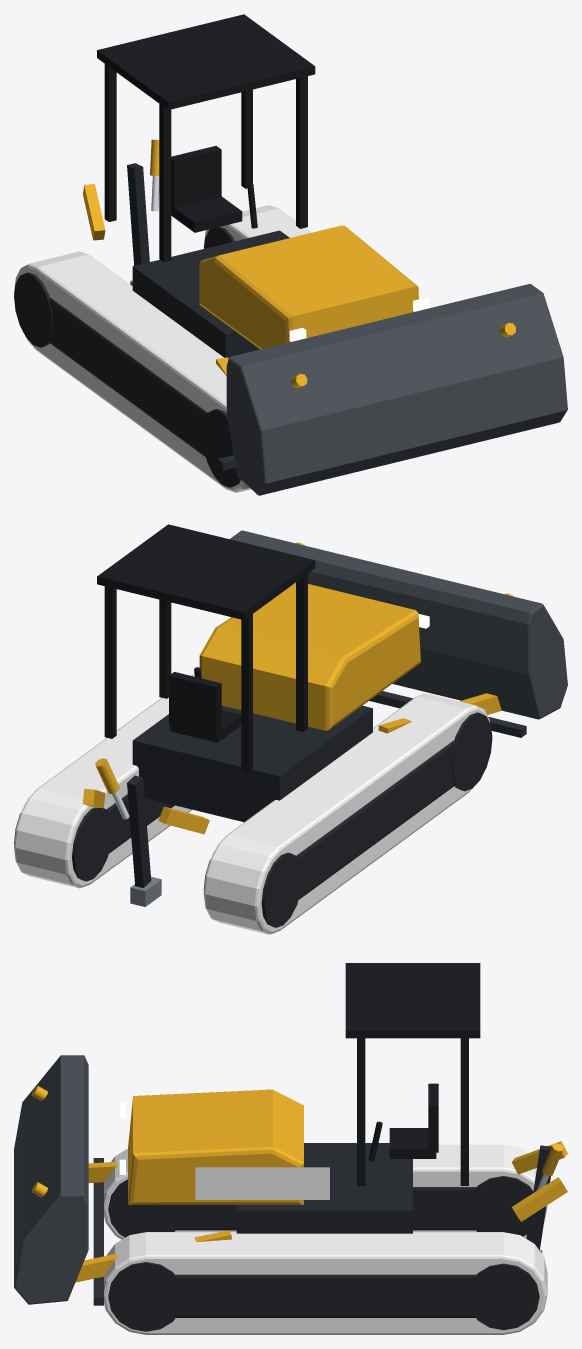
File: equipment--dozer.glb
3 renders of one model, top to bottom at view 1: azimuth 30°, elevation 25°; view 2: azimuth 150°, elevation 25°; view 3: azimuth 270°, elevation 25°, orthographic. The views are drawn at different scales.
Visible parts, largest first — view 1: blade, trackR, dozer:shell, rops, seat, ripper, trackL; view 2: dozer:shell, trackR, blade, rops, trackL, seat, ripper; view 3: trackL, dozer:shell, blade, trackR, rops, seat, ripper.
Part boxes in pixels (<box>): blade: <box>217,284,567,495</box>; trackR: <box>14,251,250,492</box>; dozer:shell: <box>83,184,418,375</box>; rops: <box>97,14,315,261</box>; seat: <box>171,146,242,232</box>; ripper: <box>127,139,159,285</box>; trackL: <box>203,205,311,248</box>; dozer:shell: <box>83,582,501,834</box>; trackR: <box>203,693,492,934</box>; blade: <box>230,530,567,737</box>; rops: <box>97,524,315,772</box>; trackL: <box>14,674,194,888</box>; seat: <box>169,672,241,742</box>; ripper: <box>95,758,161,906</box>; trackL: <box>104,1232,547,1334</box>; dozer:shell: <box>75,1089,567,1282</box>; blade: <box>14,1055,103,1305</box>; trackR: <box>104,1144,547,1239</box>; rops: <box>345,963,480,1185</box>; seat: <box>389,1083,438,1158</box>; ripper: <box>526,1143,563,1253</box>.
Bounding box in the file's own units: 3.2 × 3.01 × 5.35.
